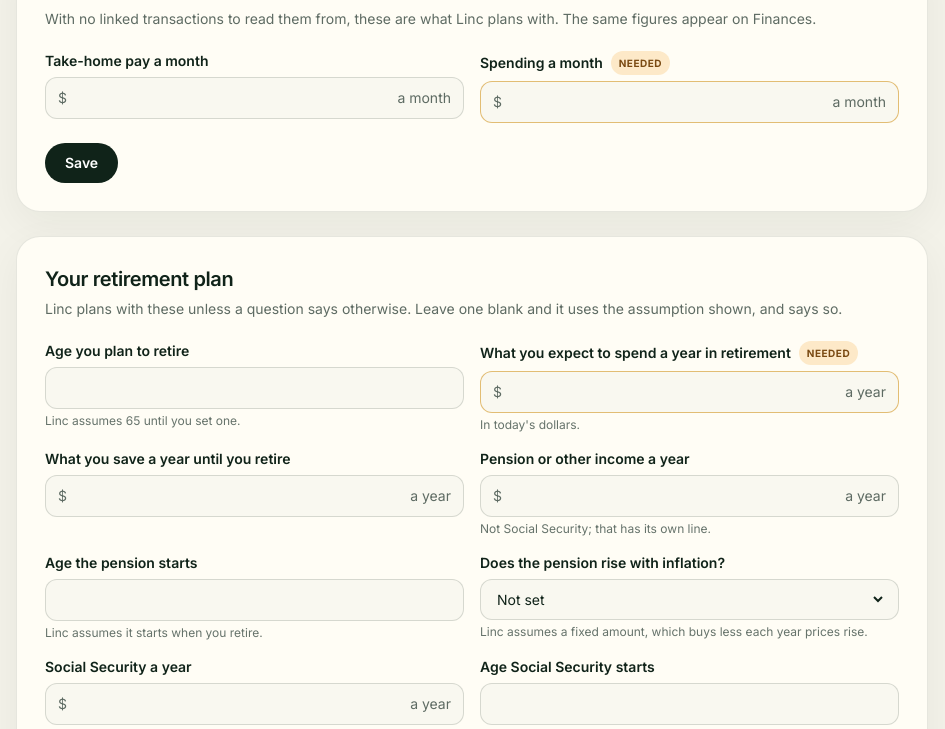
Test: Your numbers › will not save a figure outside what Linc accepts
This screenshot has width=945, height=729.
(page scrolled)
Type "120" into the field labelled "Age you plan to retire" at (254, 388), box [58, 368, 451, 408]
(page scrolled)
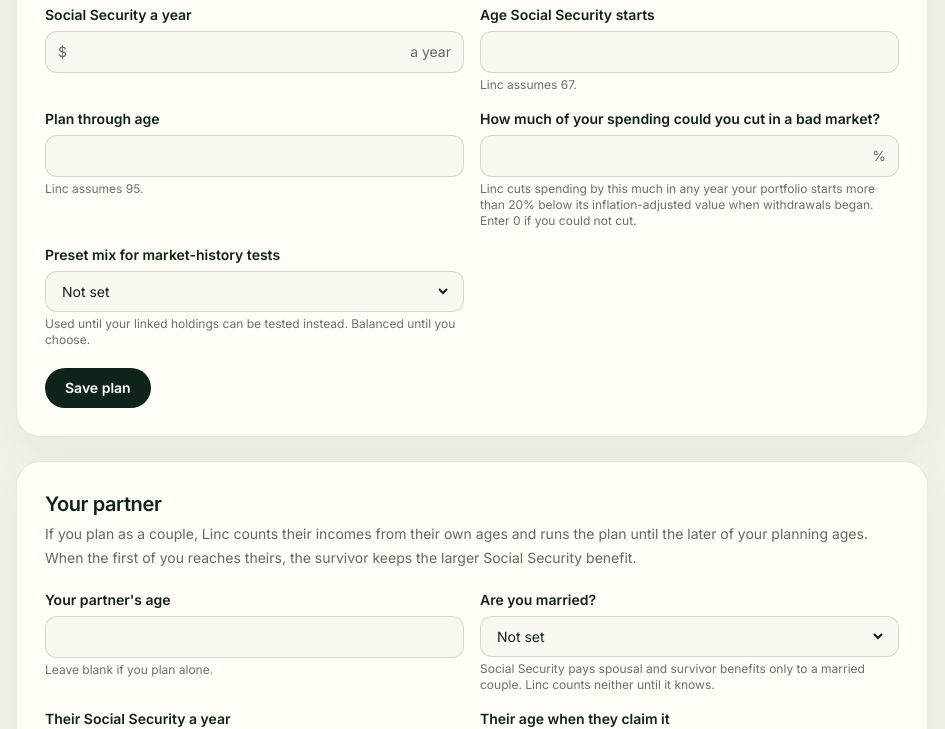
Click the button "Save plan" at (98, 388), box [45, 368, 151, 408]
(page scrolled)
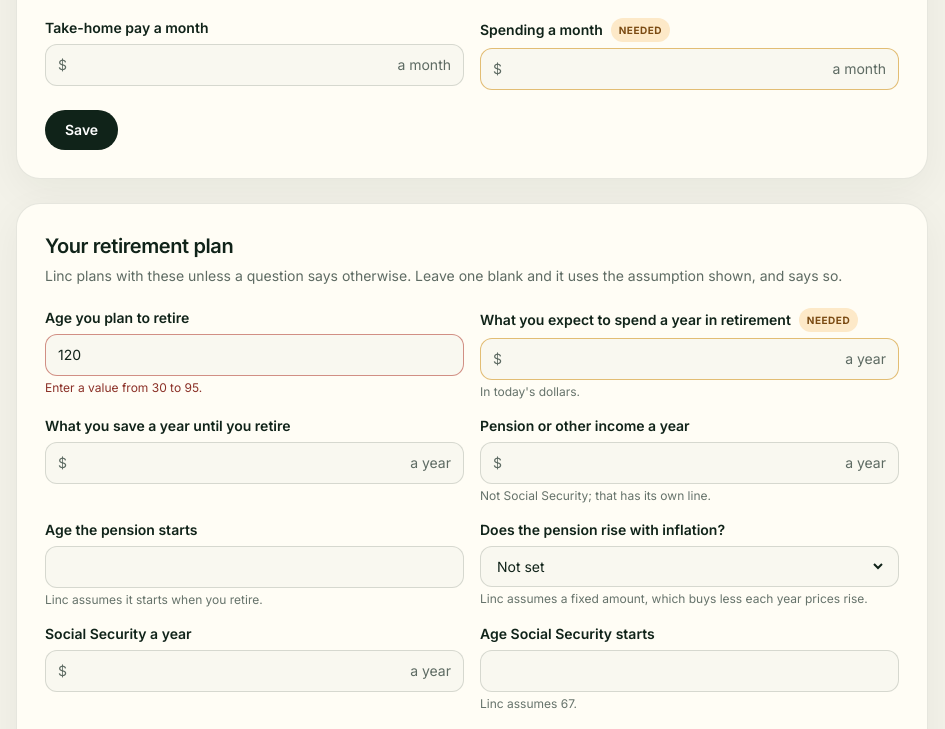
expect the text "Enter a value from 30 to 95." is shown: met, box [45, 380, 202, 395]
